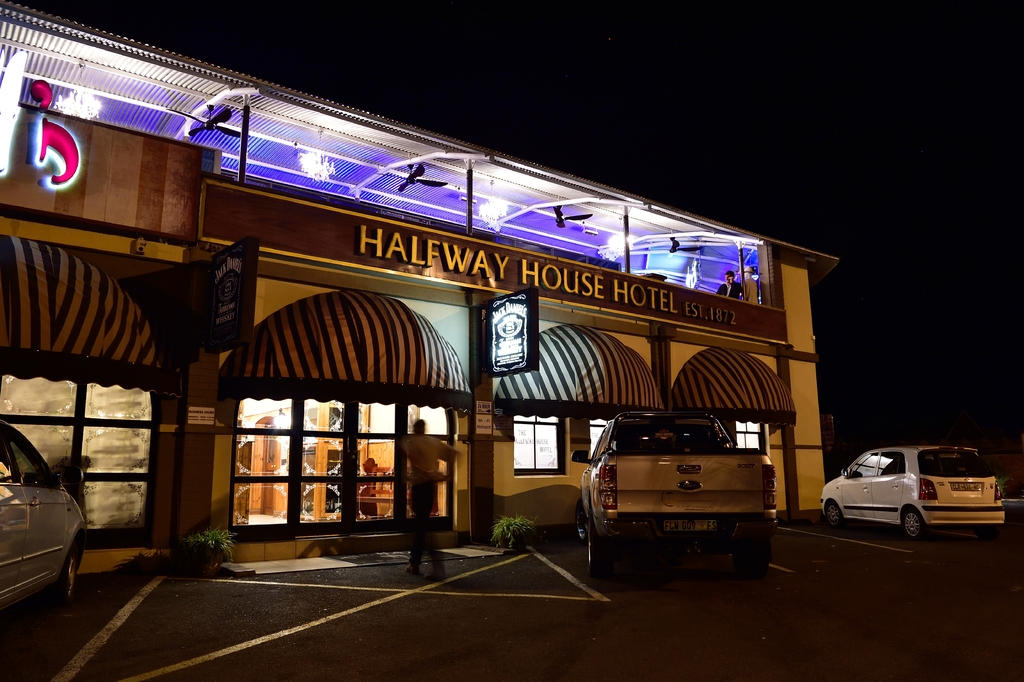Car: (575, 403, 780, 576), (811, 443, 1012, 542), (0, 411, 85, 605)
